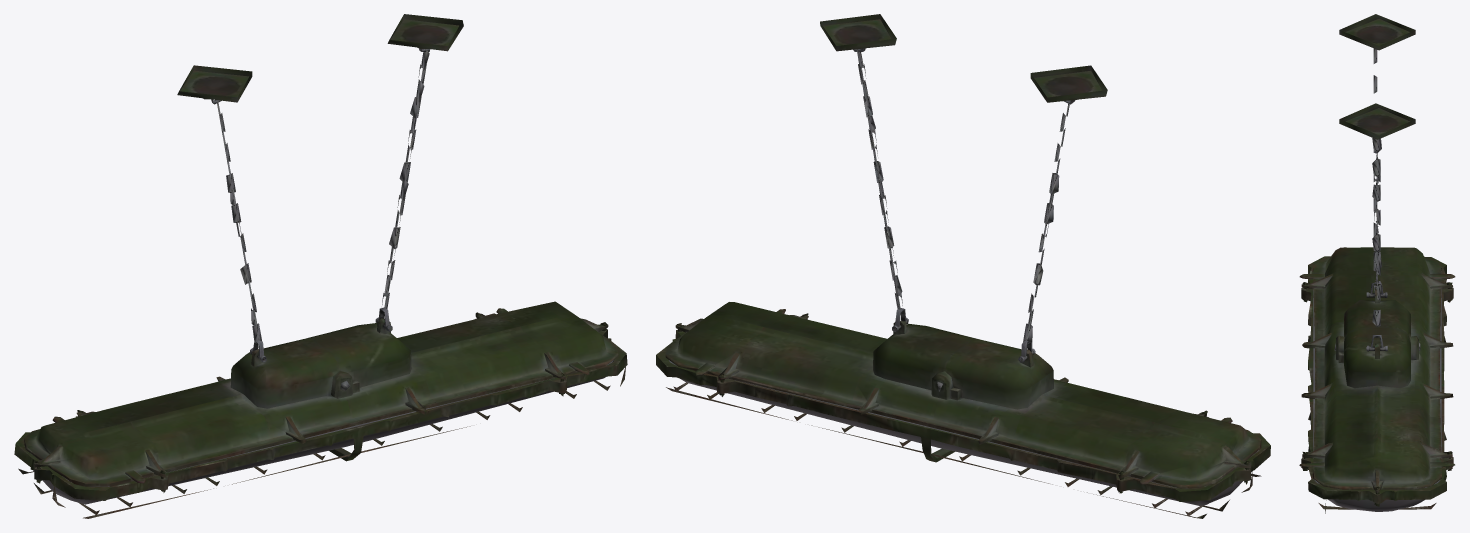
Rendered from caged_hanging_light.glb.
The picture shows the model from 3 angles, left to right: view 1: azimuth 30°, elevation 25°; view 2: azimuth 150°, elevation 25°; view 3: azimuth 270°, elevation 25°; orthographic projection. The views are drawn at different scales.
Visible parts, largest first — view 1: caged_hanging_light; view 2: caged_hanging_light; view 3: caged_hanging_light.
Part boxes in pixels (bbox=[...]): caged_hanging_light: bbox=[14, 14, 627, 518]; caged_hanging_light: bbox=[656, 14, 1270, 518]; caged_hanging_light: bbox=[1299, 14, 1455, 513].
Size of the model in its own units: 1.16 by 0.7501 by 0.3149.
Materials: 1 (1 with a texture image).
